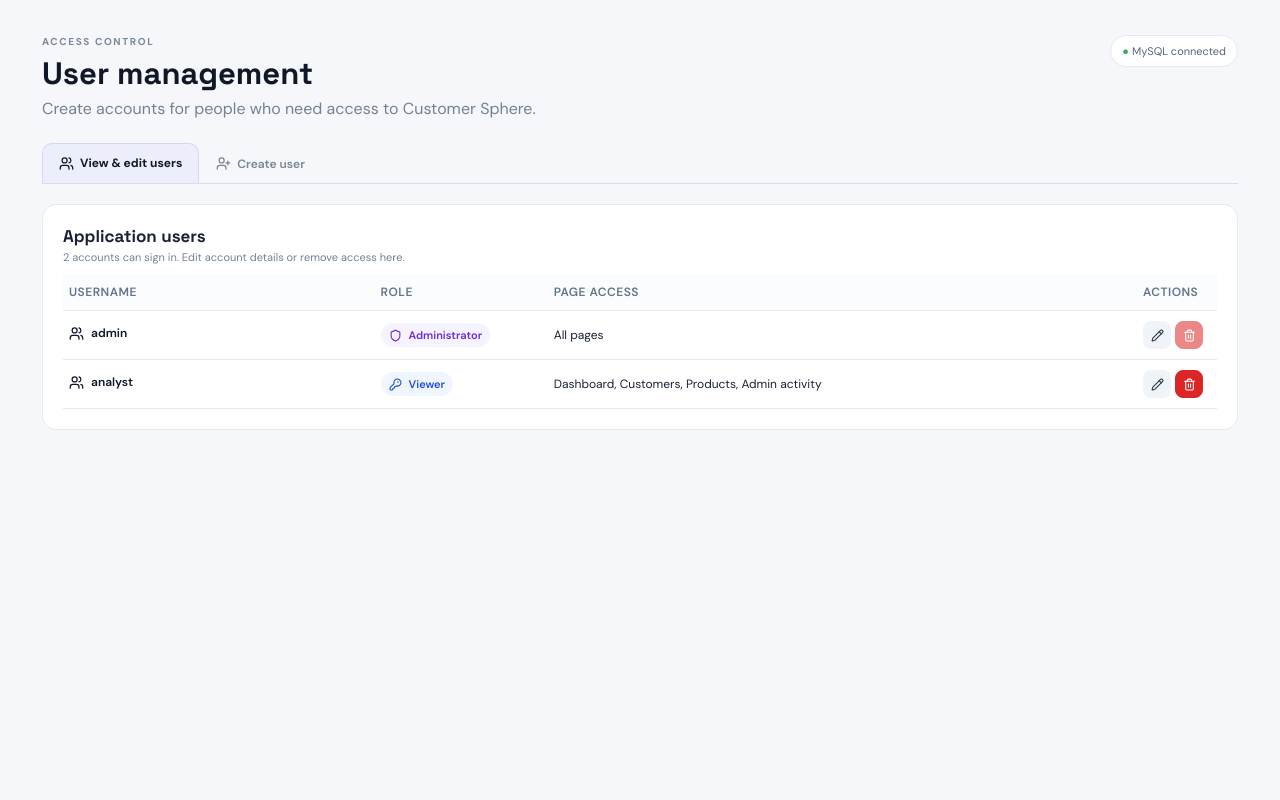
Test: User management page › edits a viewer's page permissions
expect the text "analyst" is shown: met, box [69, 374, 133, 390]
Step 1. Click the button named "Edit analyst" → [1157, 384], box [1143, 370, 1171, 398]
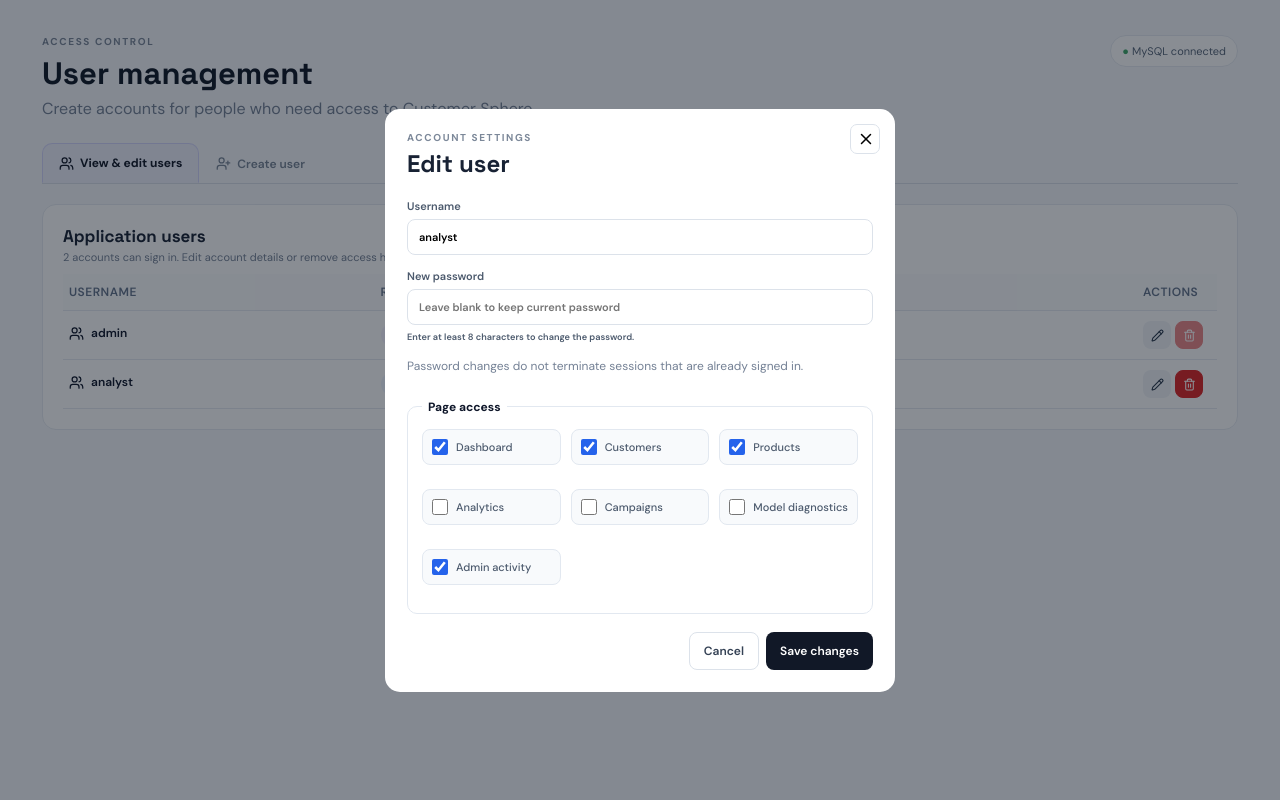
Step 2. Click the checkbox labelled "Analytics" → [440, 506], box [432, 498, 448, 514]
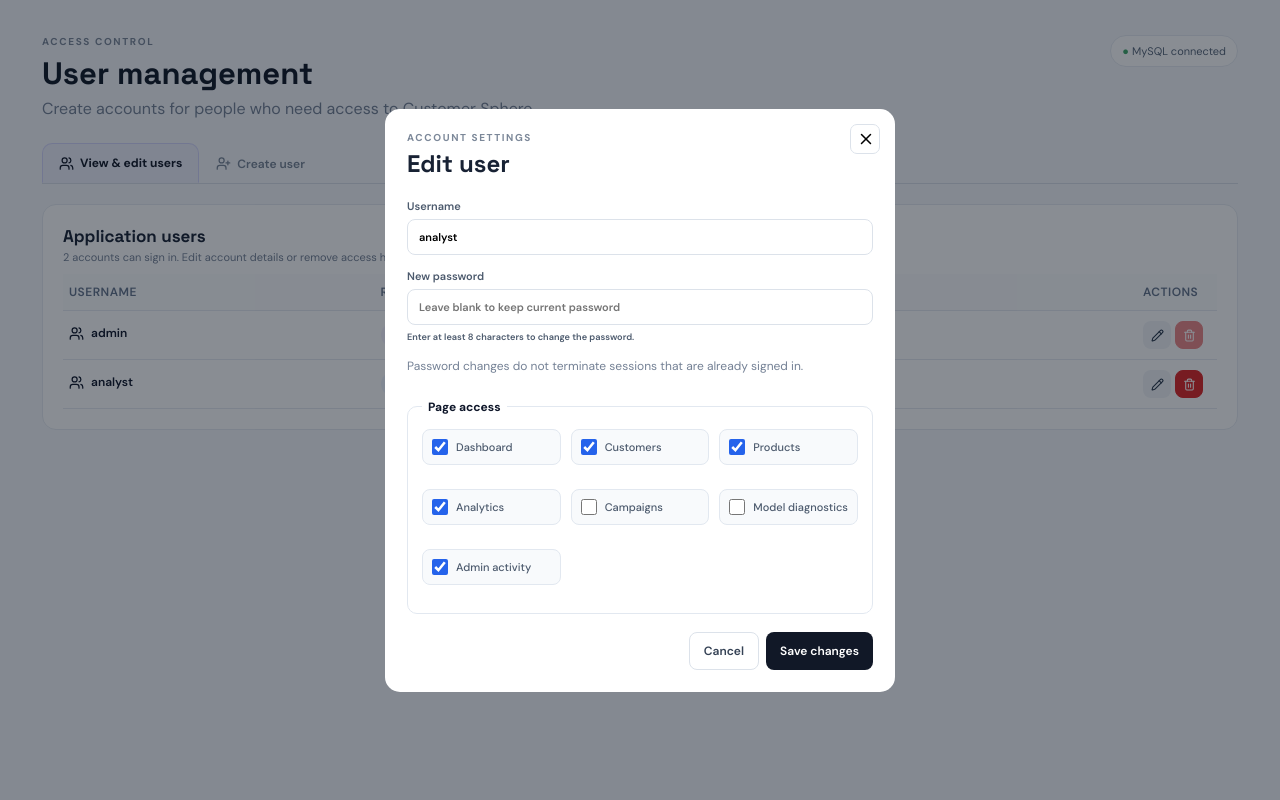
Step 3. Click the checkbox labelled "Customers" → [589, 446], box [581, 438, 597, 454]
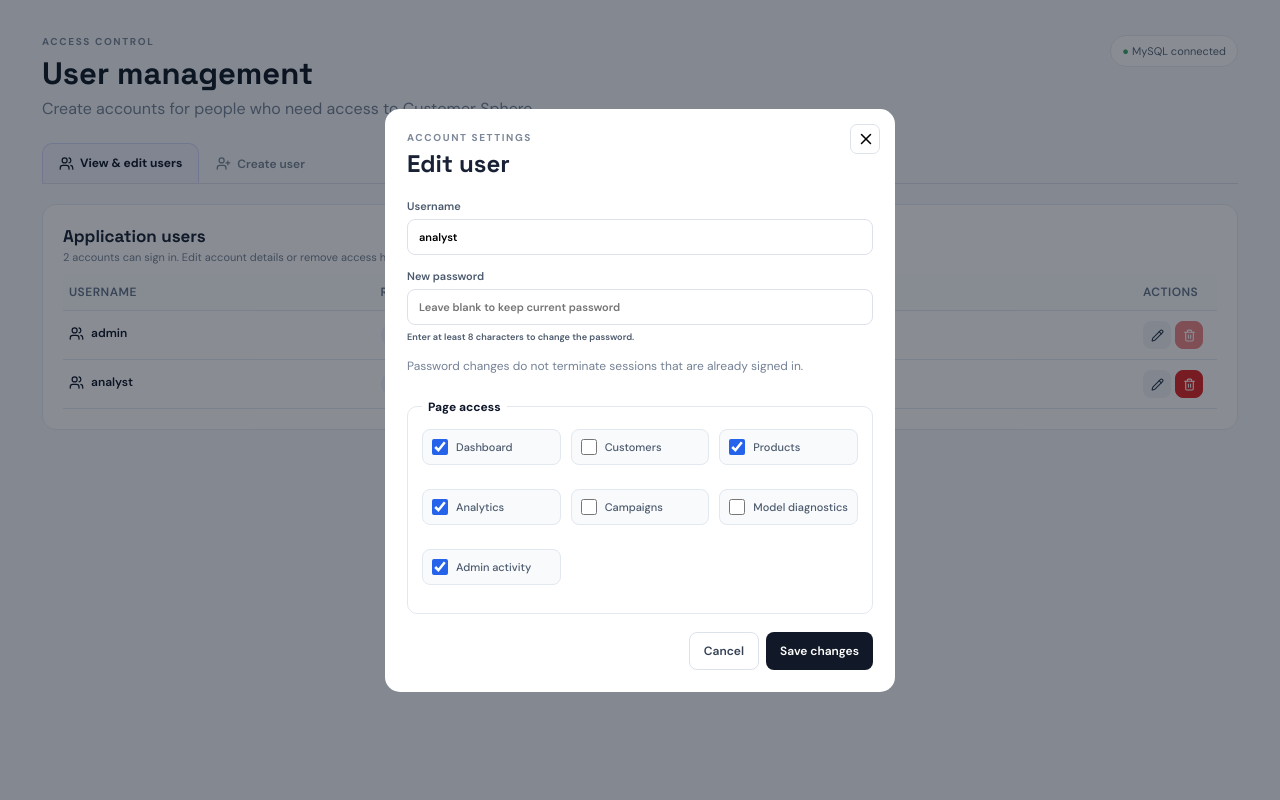
Step 4. Click the checkbox labelled "Products" → [737, 446], box [729, 438, 745, 454]
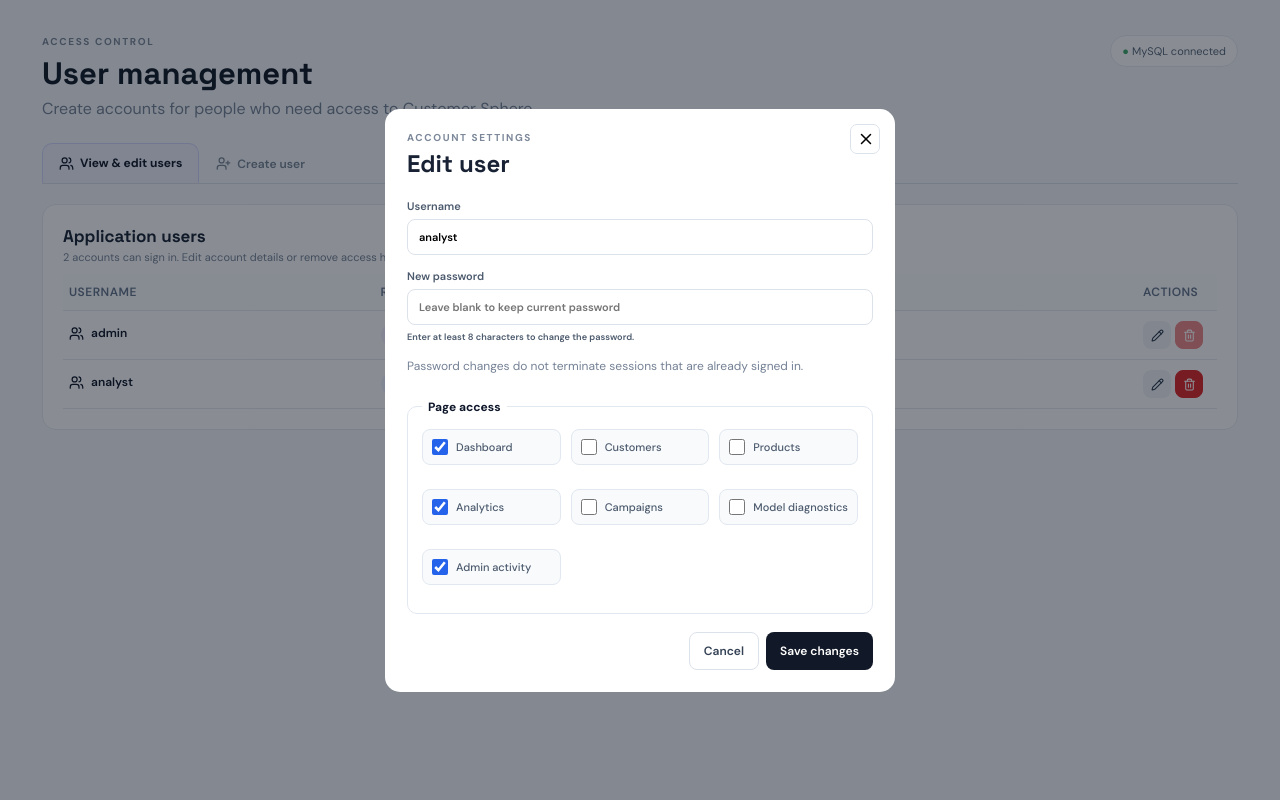
Step 5. Click the checkbox labelled "Admin activity" → [440, 566], box [432, 558, 448, 574]
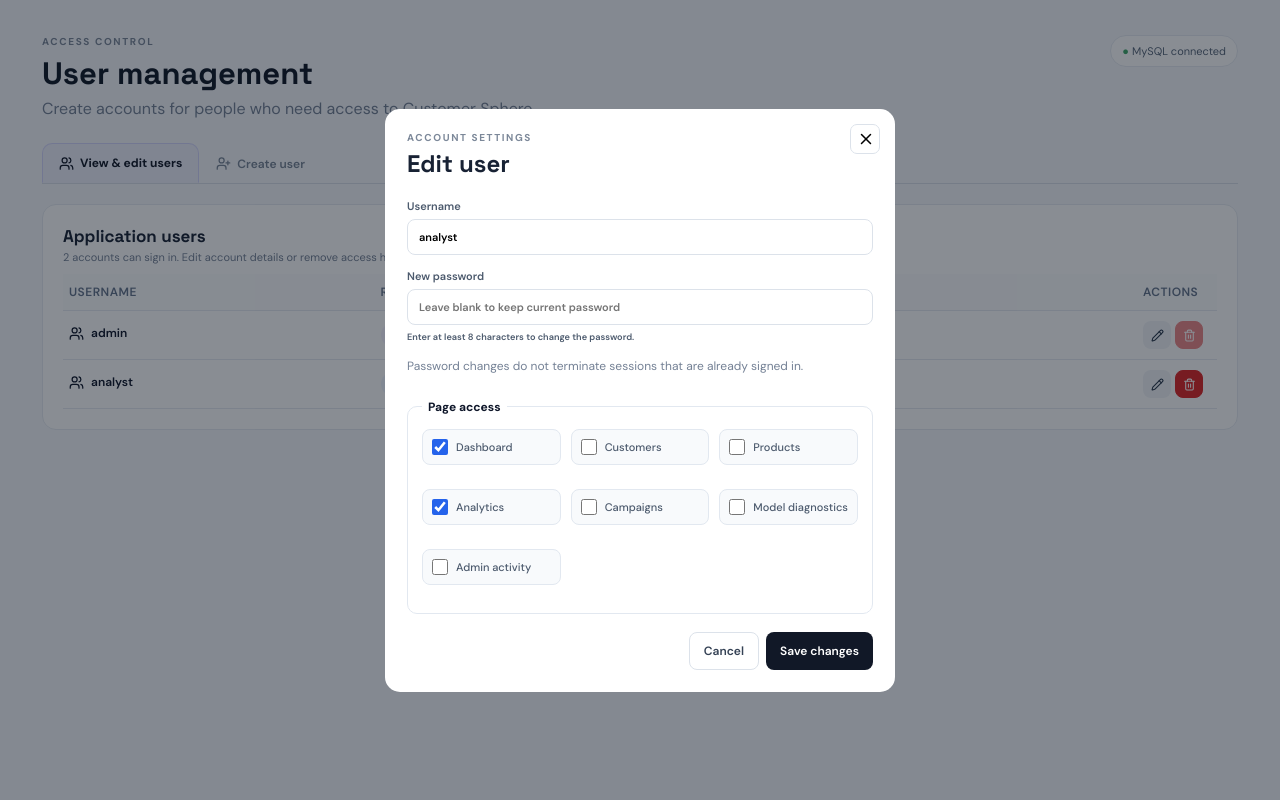
Step 6. Submit the dialog named "Edit analyst", box [385, 108, 895, 692]
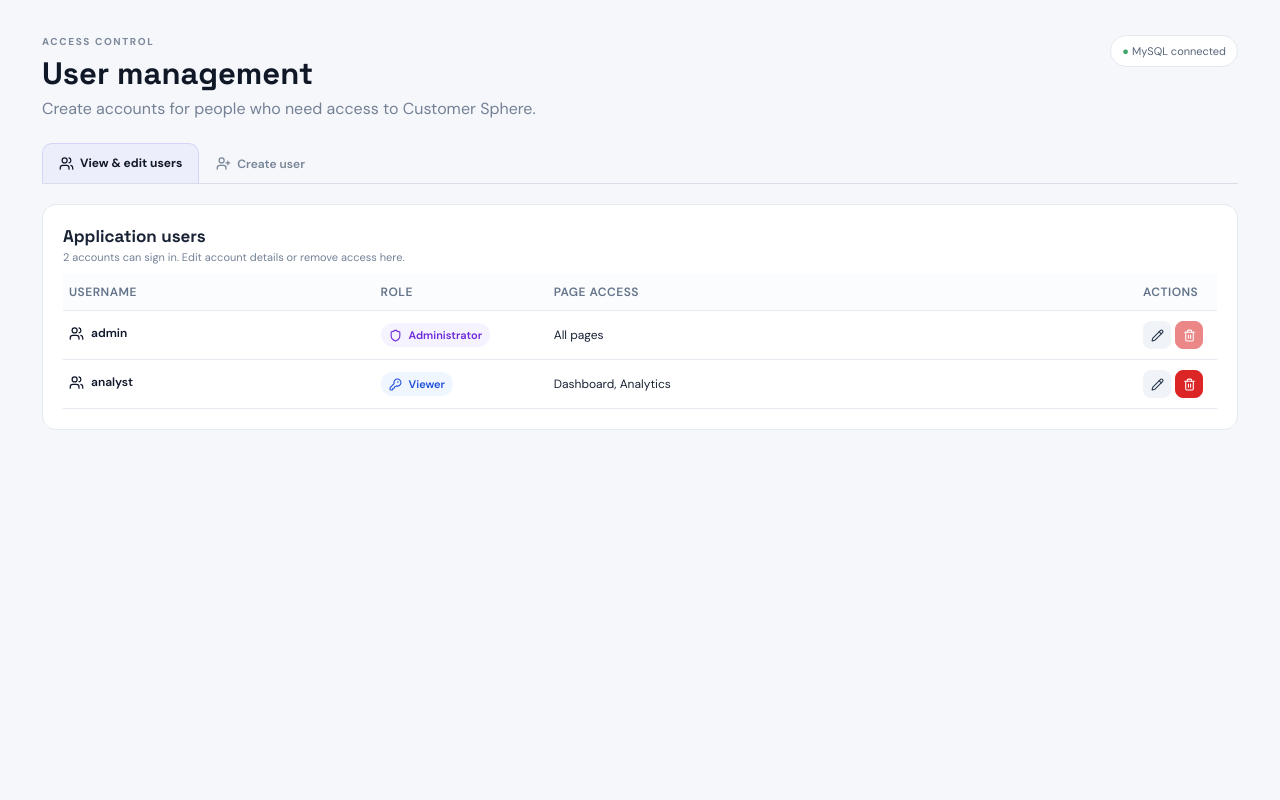
expect the text "Dashboard, Analytics" is shown: met, box [548, 360, 1137, 408]
